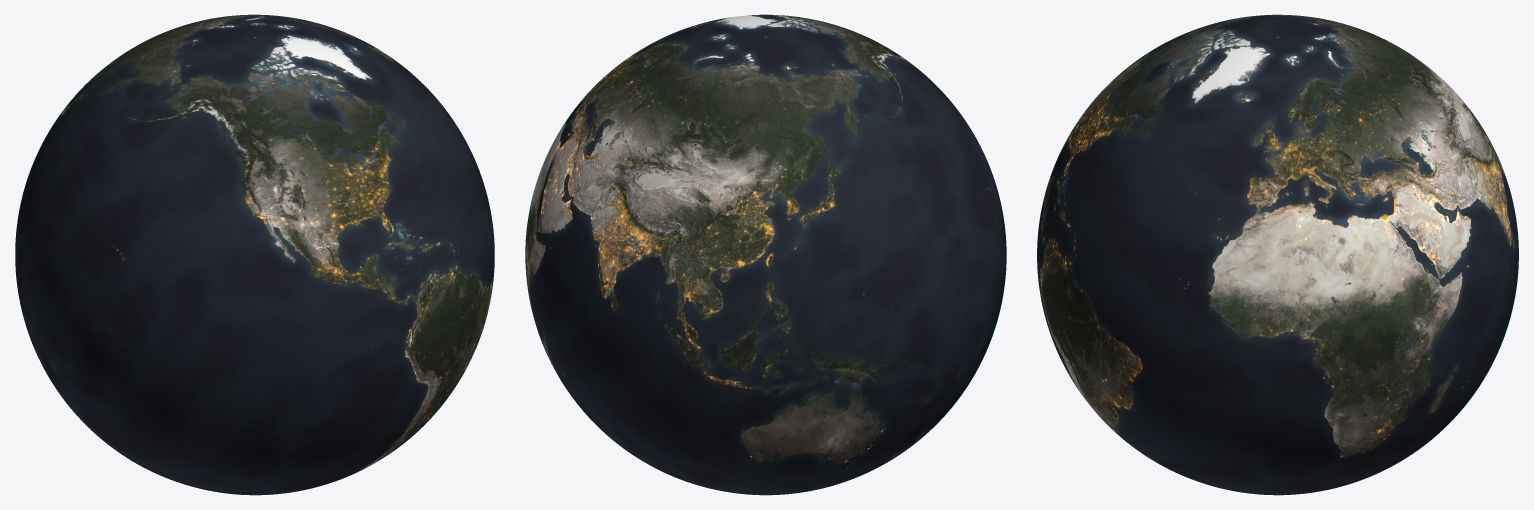
Rendered from zemlja.glb.
3 views of the same model, side by side, from view 1: azimuth 30°, elevation 25°; view 2: azimuth 150°, elevation 25°; view 3: azimuth 270°, elevation 25° (orthographic).
Parts seen in each view (by area): view 1: Earth_Geo2, Atmosphere_Geo2; view 2: Earth_Geo2, Atmosphere_Geo2; view 3: Earth_Geo2, Atmosphere_Geo2.
Boxes of the visible parts, bbox=[...] form: Earth_Geo2: bbox=[15, 14, 494, 495]; Atmosphere_Geo2: bbox=[14, 14, 495, 495]; Earth_Geo2: bbox=[525, 14, 1006, 495]; Atmosphere_Geo2: bbox=[524, 14, 1007, 495]; Earth_Geo2: bbox=[1037, 14, 1518, 495]; Atmosphere_Geo2: bbox=[1036, 14, 1519, 495].
Size of the model in its own units: 1.04 by 1.04 by 1.04.
5 materials, 4 textured.
